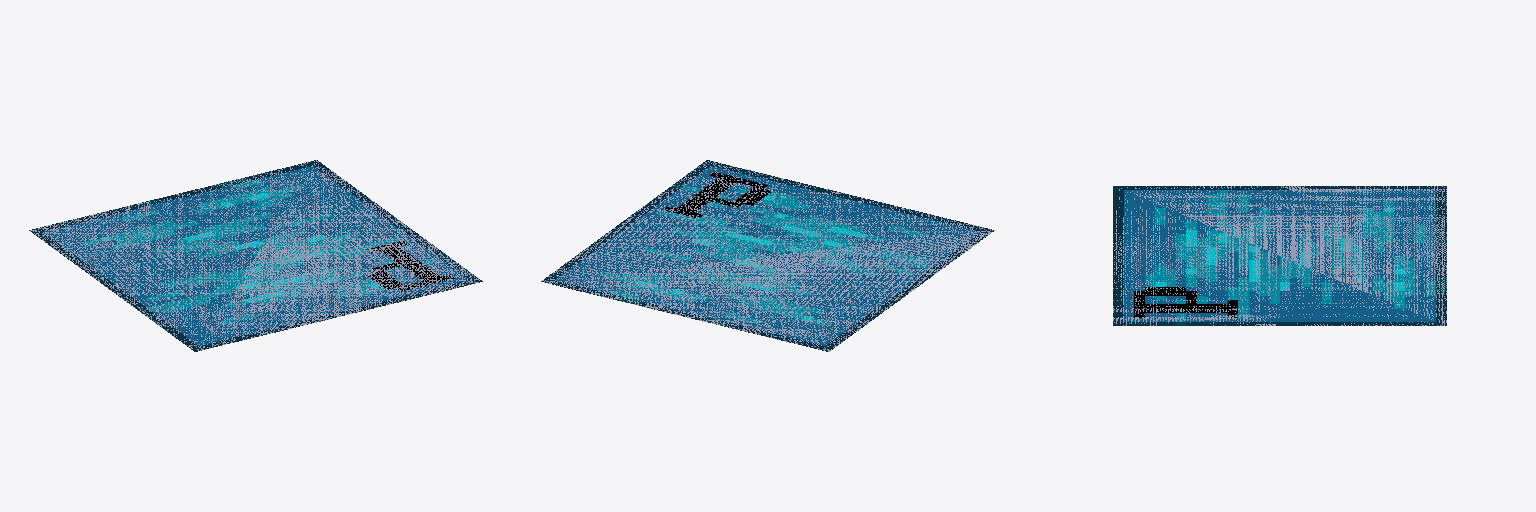
The picture shows the model from 3 angles: view 1: azimuth 30°, elevation 25°; view 2: azimuth 150°, elevation 25°; view 3: azimuth 270°, elevation 25°; orthographic projection.
Parts seen in each view (by area): view 1: Mesh1 Model; view 2: Mesh1 Model; view 3: Mesh1 Model.
Boxes of the visible parts, <box> form: Mesh1 Model: <box>29,160,482,351</box>; Mesh1 Model: <box>541,160,994,351</box>; Mesh1 Model: <box>1113,186,1446,325</box>.
Bounding box in the file's own units: 32 × 0 × 32.
2 materials, 1 textured.